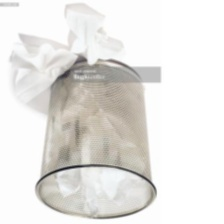tissue: (46, 69, 151, 220), (3, 29, 82, 122), (57, 0, 126, 69)
